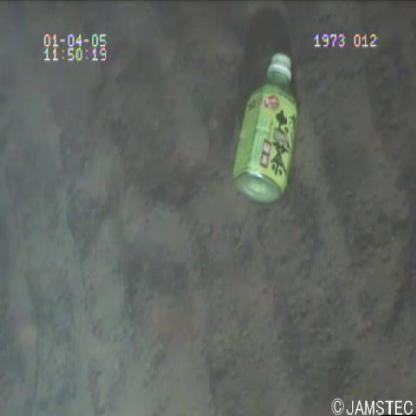Rác: (228, 42, 310, 214)
